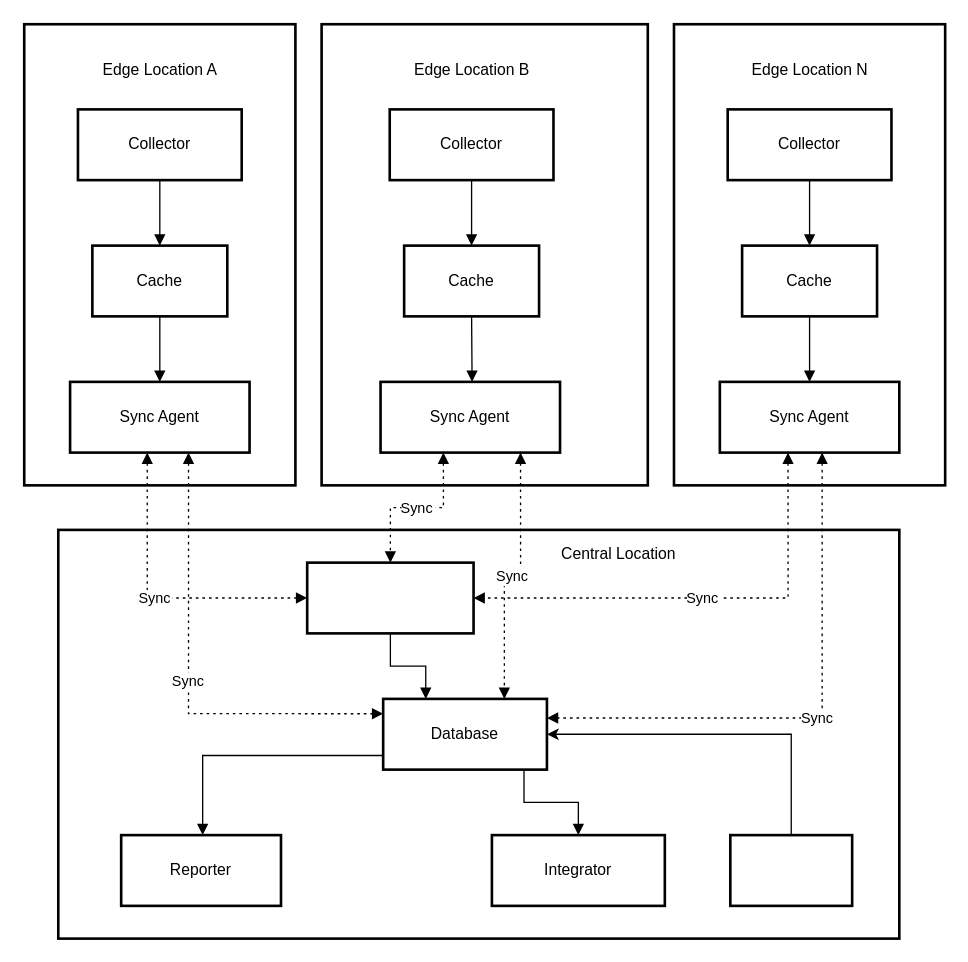
The diagram is 968 pixels wide and 962 high, and some of its shapes have lost their labels. The shapes that lost their labels are listed below. From the top down, each one's centre as x and y in pixels, then its label:
pixel 389 597: Processor
pixel 790 870: Auth
